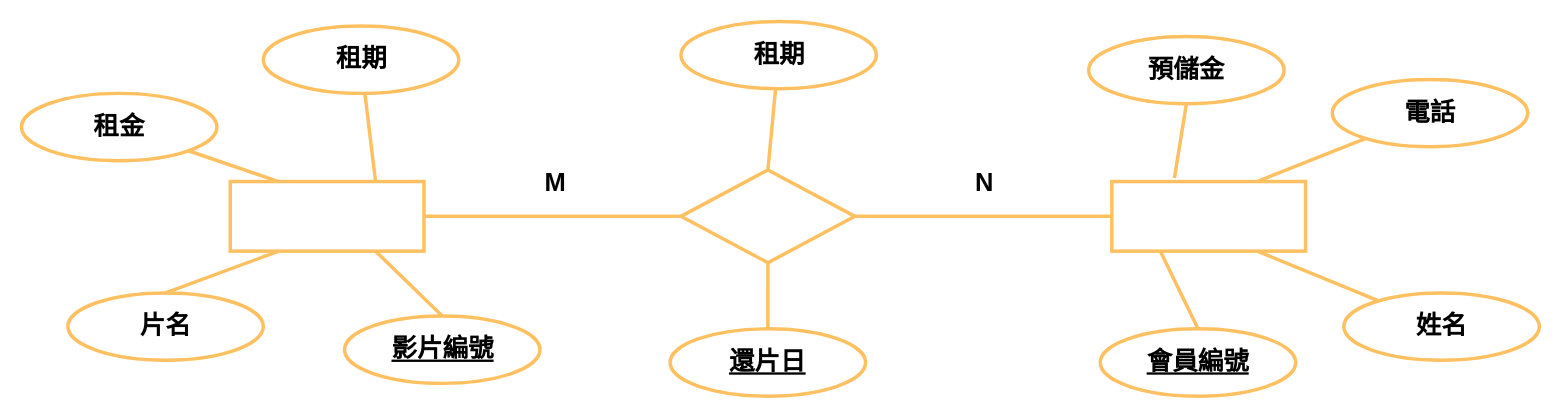
Some shapes in this 1561 by 418 pixel diagram are drawn without their labels. Here are the shapes that lost their labels. From the top down, the centre of each, then its label:
(326,215): 影片
(767,216): 租片
(1208,215): 會員
